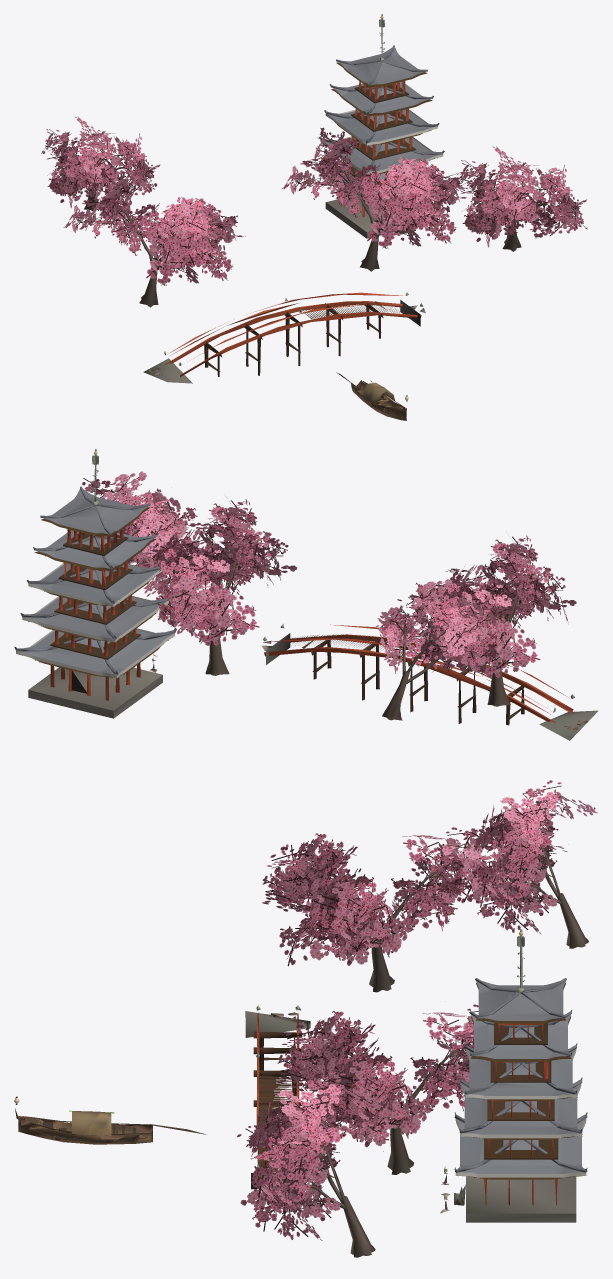
Rendered from overview.glb.
3 views of the same model, one above another, from view 1: azimuth 30°, elevation 25°; view 2: azimuth 150°, elevation 25°; view 3: azimuth 270°, elevation 25° (orthographic). The views are drawn at different scales.
Parts seen in each view (by area): view 1: Native sakura foliage, Native sakura structure, Native sakura boat; view 2: Native sakura structure, Native sakura foliage; view 3: Native sakura foliage, Native sakura structure, Native sakura boat.
Part boxes in pixels (left/top/right/bottom): Native sakura foliage: left=41, top=117, right=587, bottom=285; Native sakura structure: left=84, top=14, right=550, bottom=383; Native sakura boat: left=336, top=372, right=408, bottom=420; Native sakura structure: left=14, top=449, right=598, bottom=740; Native sakura foliage: left=66, top=471, right=576, bottom=677; Native sakura foliage: left=237, top=780, right=597, bottom=1240; Native sakura structure: left=245, top=846, right=588, bottom=1257; Native sakura boat: left=14, top=1096, right=205, bottom=1144.
Size of the model in its own units: 11.68 by 5.56 by 9.27.
3 materials, 1 textured.
